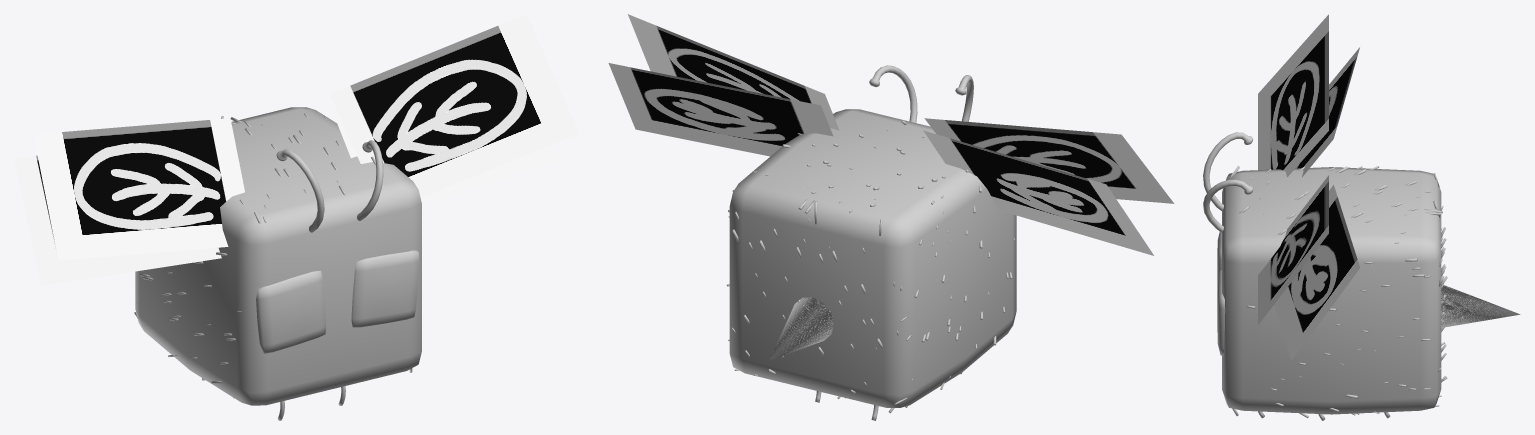
The model's file is bee2.fbx.
3 views of the same model, side by side, from view 1: azimuth 30°, elevation 25°; view 2: azimuth 150°, elevation 25°; view 3: azimuth 270°, elevation 25° (orthographic). The views are drawn at different scales.
Visible parts, largest first — view 1: Plane, body, eyes, Line, Cylinder.001; view 2: body, Plane, Line, Cylinder.001; view 3: body, Plane, Line, Cylinder.001, eyes.
Part boxes in pixels (x1,y1,x2,y2): Plane: (14,14,579,285); body: (135,107,421,405); eyes: (256,250,419,353); Line: (276,140,383,420); Cylinder.001: (134,113,412,398); body: (729,109,1016,407); Plane: (608,14,1174,255); Line: (769,65,973,420); Cylinder.001: (726,120,1014,413); body: (1222,167,1441,414); Plane: (1258,14,1359,360); Line: (1203,132,1520,420); Cylinder.001: (1230,166,1447,418); eyes: (1217,231,1225,355).
Bounding box in the file's own units: 68.14 × 118 × 67.01.
